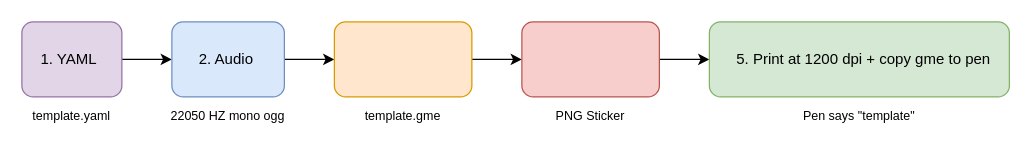
Some shapes in this 1031 by 156 pixel diagram are drawn without their labels. Each missing label, with the box of its shape:
3. Assemble: (333, 21, 472, 97)
4. OID Code: (521, 21, 659, 97)
